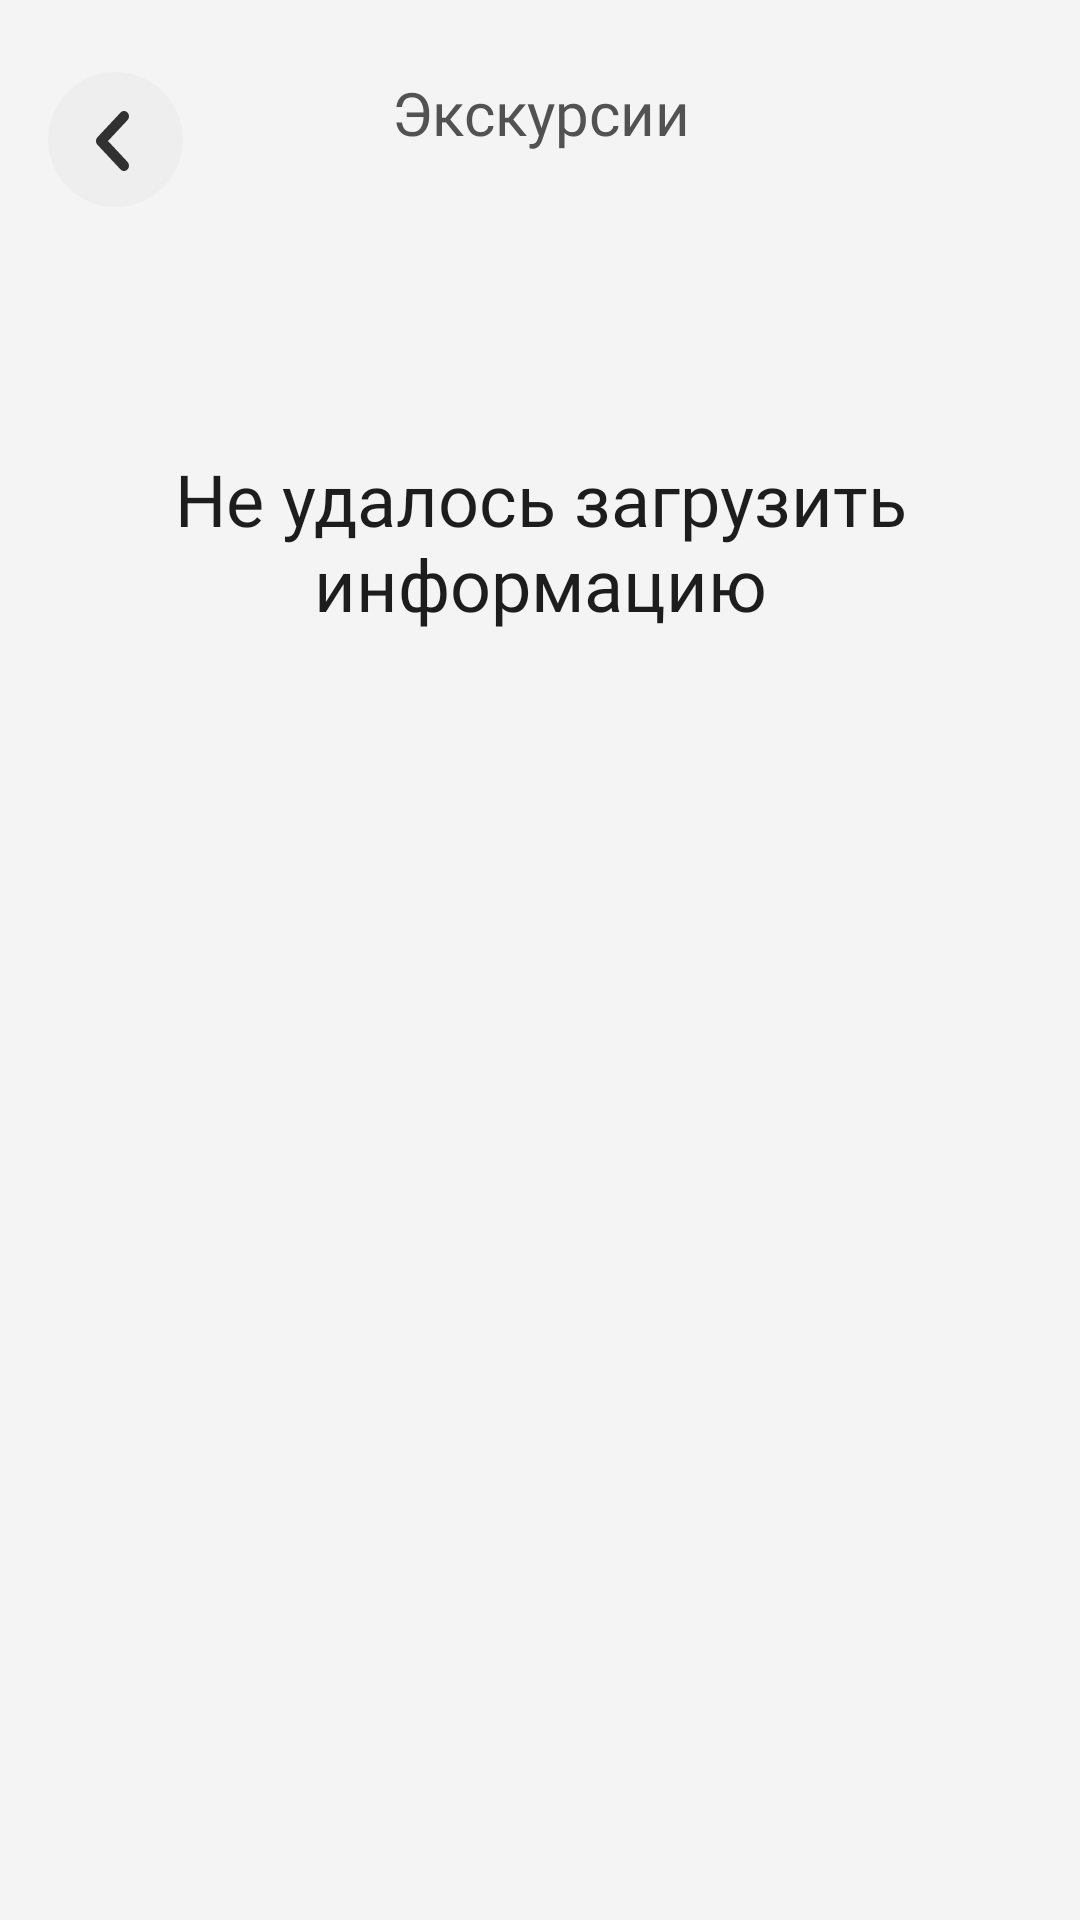

Where to tap for icons on this 1080*1920 app screen, as [x,y]:
backbutton: [112,141]
